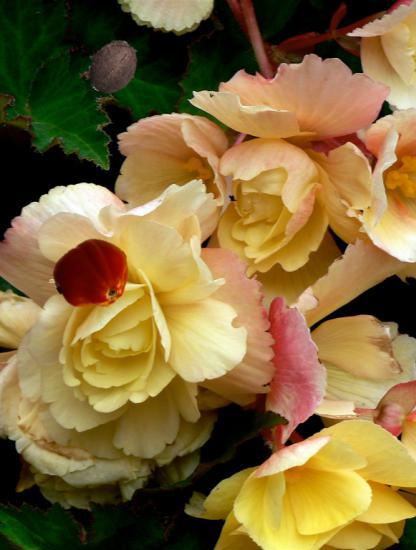Cocos: (85, 39, 143, 97)
Tomato: (55, 237, 132, 314)
